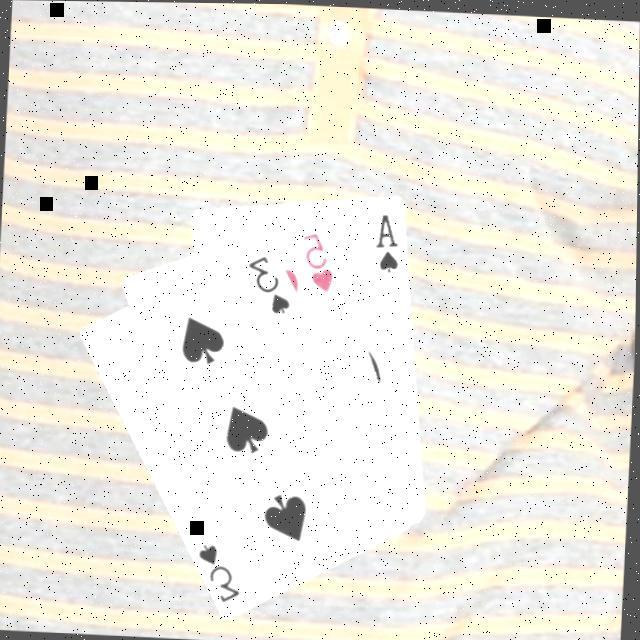3S: (195, 536, 249, 604), (244, 247, 297, 315)
5H: (298, 225, 341, 292)
AS: (372, 205, 405, 271)
